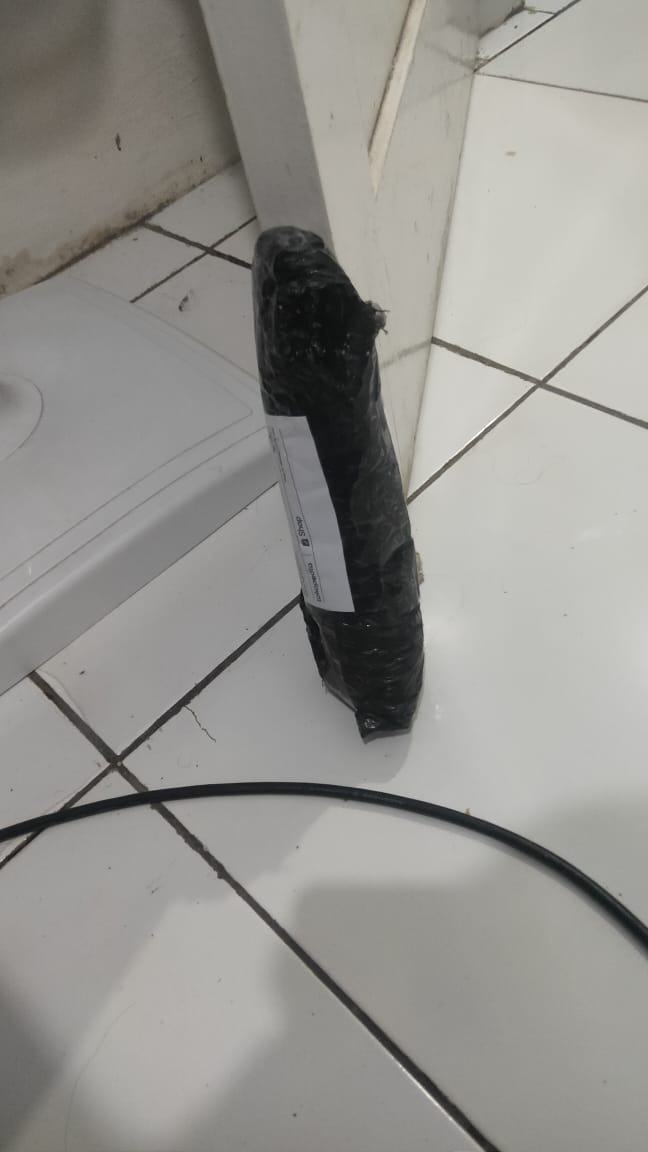damaged package: (276, 280, 373, 386)
undamaged: (251, 223, 425, 747)
